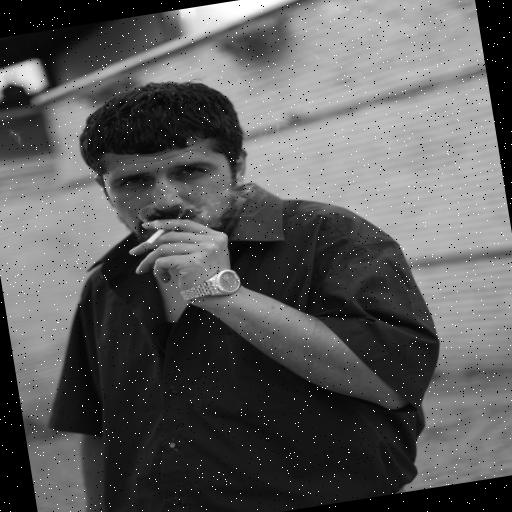dataset-deteksi-merokok: (90, 140, 236, 270)
